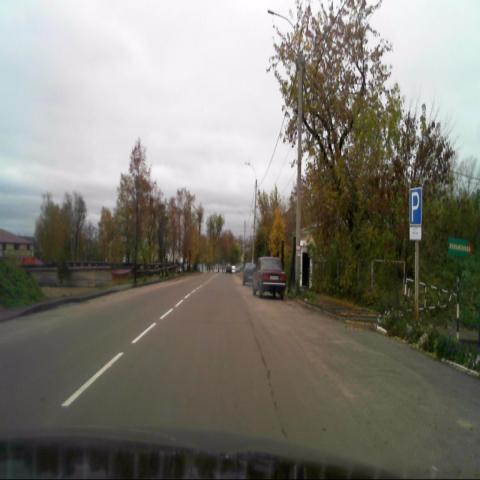6_4: (410, 188, 421, 225)
8_8: (410, 227, 421, 240)
